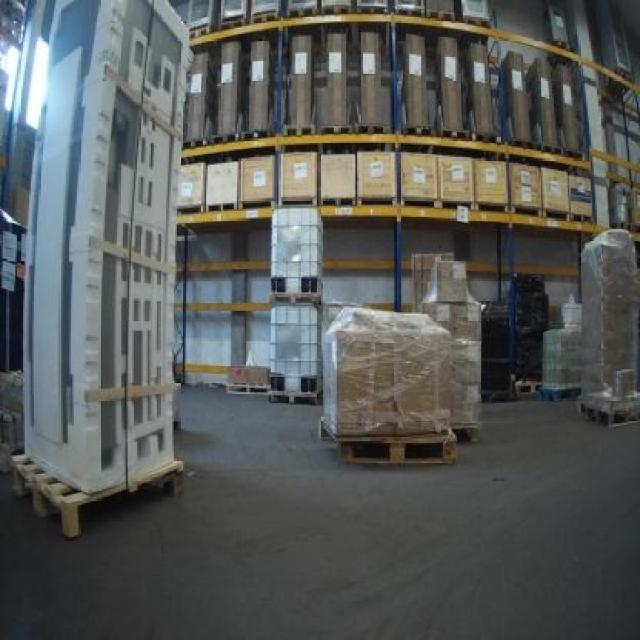floor: (0, 386, 637, 637)
pallets: (17, 0, 186, 532), (320, 306, 452, 462), (578, 228, 637, 422)
